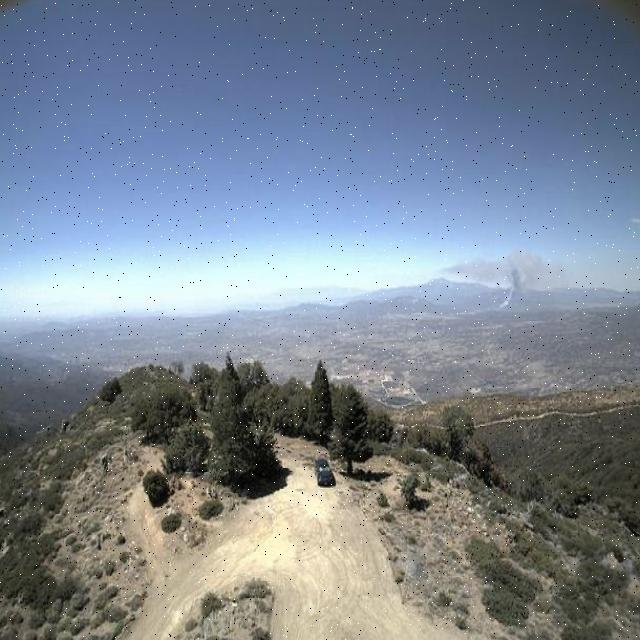smoke: (439, 252, 566, 311)
